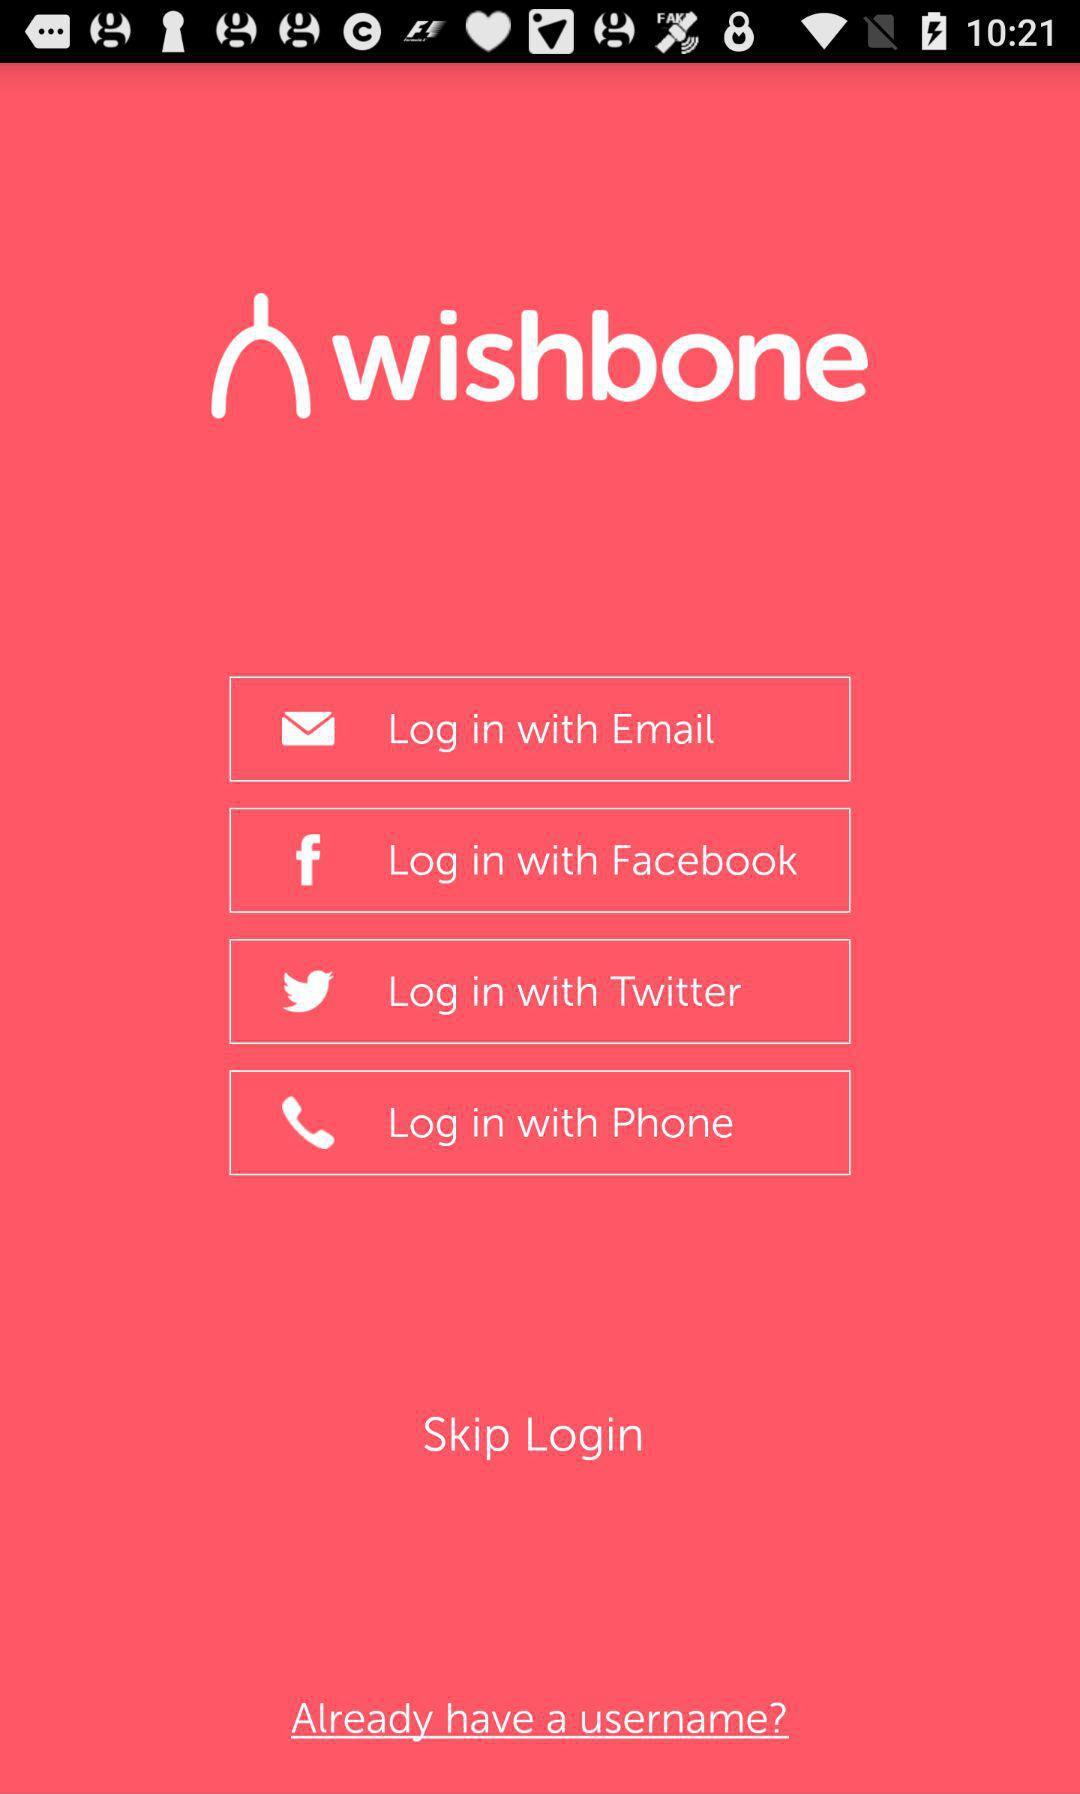Image: (210, 292, 870, 422)
Text: (290, 1700, 790, 1743), (423, 1413, 643, 1462)
TextButton: (229, 1070, 852, 1178), (231, 677, 852, 784), (229, 938, 852, 1044), (231, 809, 852, 914)
UpperTaskBar: (1, 1, 1080, 64)
